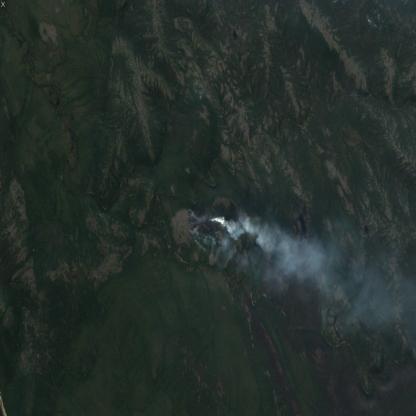fire: (184, 205, 224, 248)
